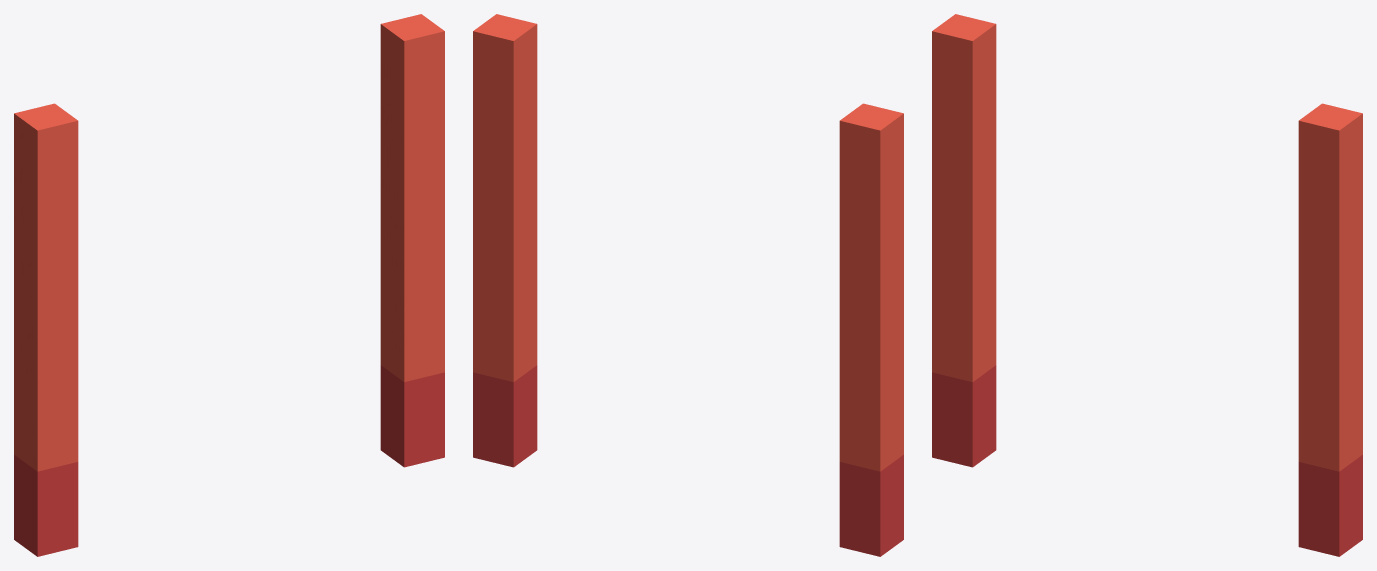
The model's file is building_column1.obj.
3 renders of one model, left to right at view 1: azimuth 30°, elevation 25°; view 2: azimuth 150°, elevation 25°; view 3: azimuth 330°, elevation 25°, orthographic.
Visible parts, largest first — view 1: mergedBlocks; view 2: mergedBlocks; view 3: mergedBlocks.
Part boxes in pixels (left/top/right/bottom): mergedBlocks: left=14, top=14, right=444, bottom=556; mergedBlocks: left=473, top=14, right=903, bottom=556; mergedBlocks: left=932, top=14, right=1362, bottom=556.
Size of the model in its own units: 1 by 1 by 0.1.
